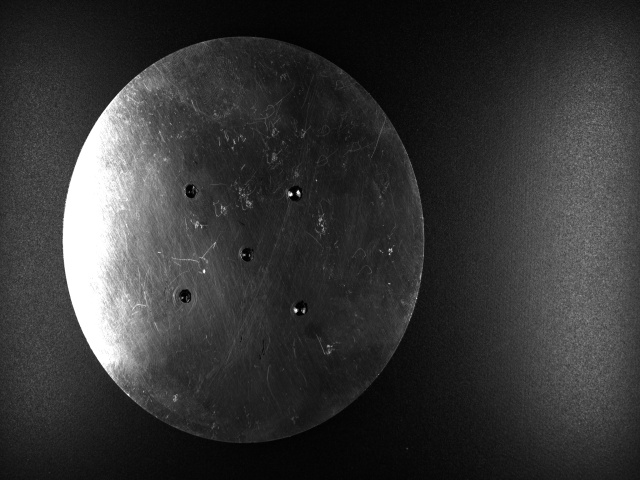zhen_kong: (283, 182, 306, 206), (289, 299, 310, 321), (182, 181, 203, 203), (240, 243, 257, 263), (178, 287, 194, 304)
